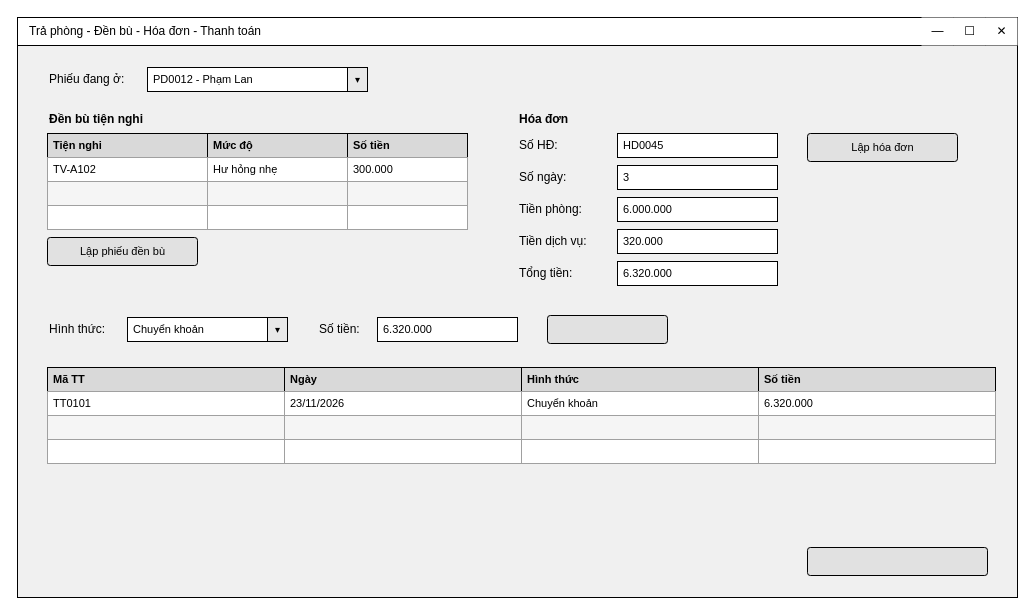
This 1035x615 diagram has some shape labels left out. Here are the shapes that lost their labels. From the top down, the centre of each, then its label:
(607,329): Thanh toán
(897,561): Hoàn tất trả phòng
